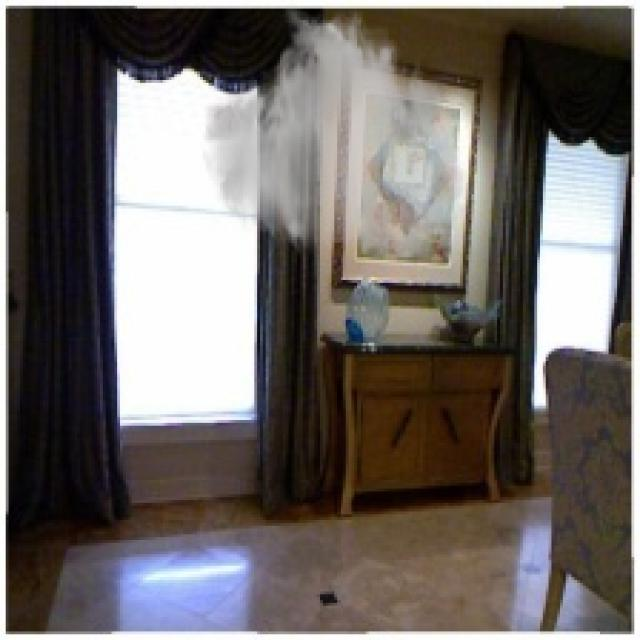smoke: (200, 3, 471, 266)
